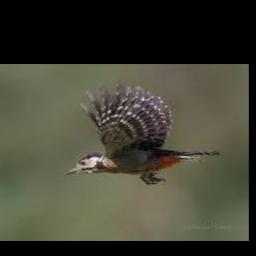Woodpecker: (60, 85, 219, 184)
